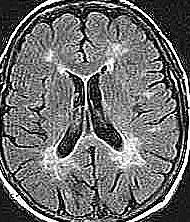Normal_Brain: (1, 1, 190, 222)
